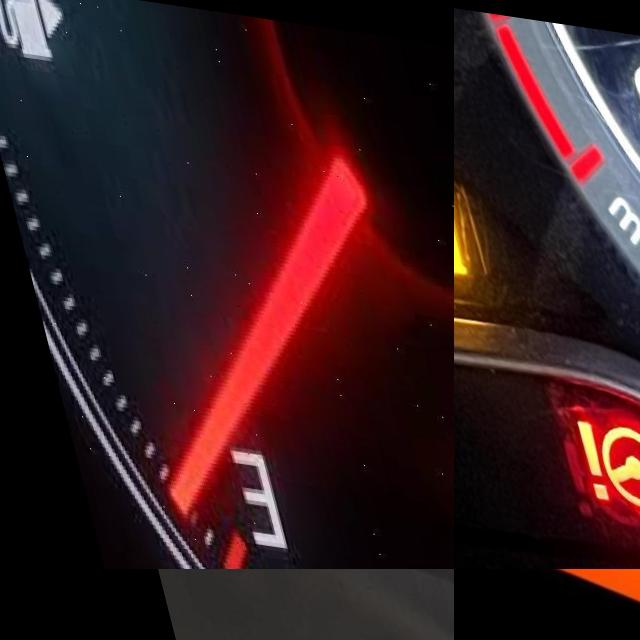Electronic Power Steering: (537, 389, 640, 515)
